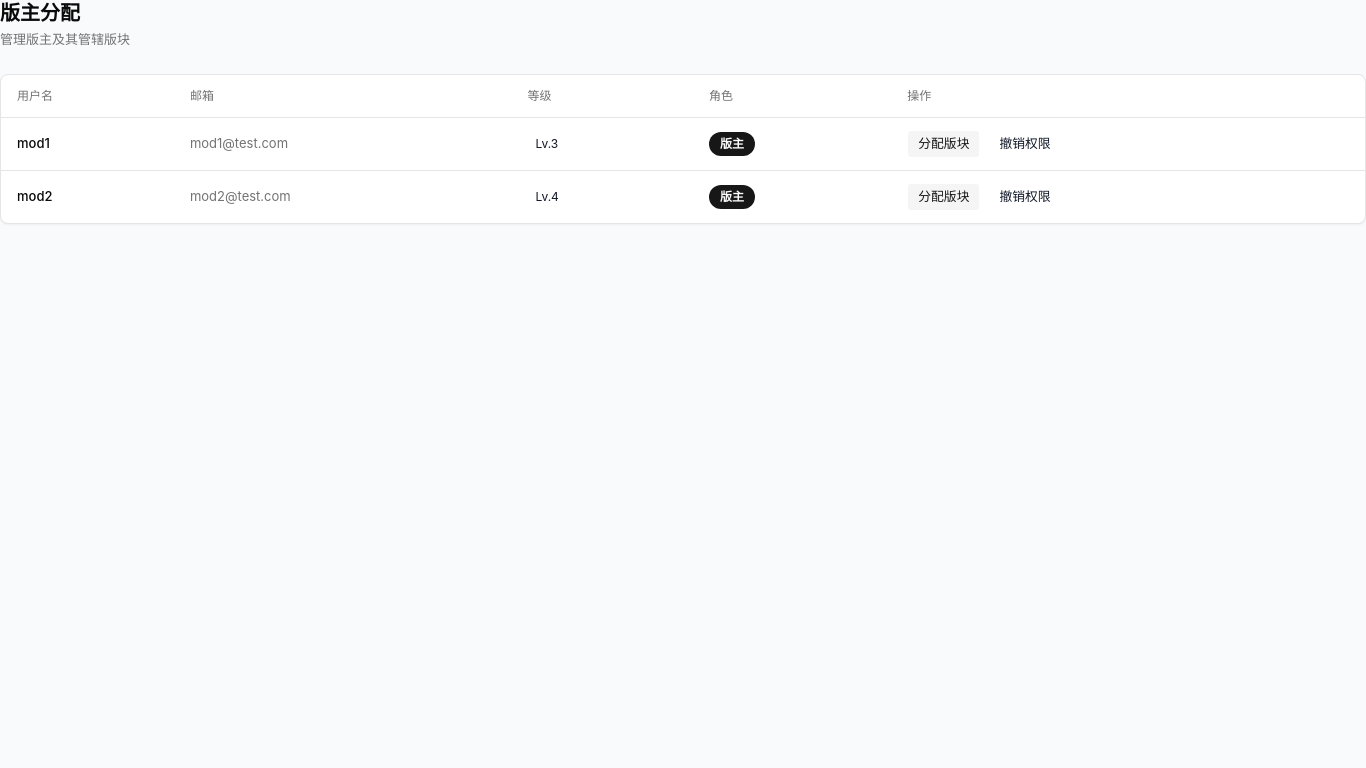
Test case: ModeratorAssignmentPage › opens assignment modal when clicking 分配版块
Check: the text "mod1" is shown, box [1,117,174,170]
Step 1. Click the button "分配版块" in the row of "mod1@test.com" → x=944, y=144, box [907,130,980,158]
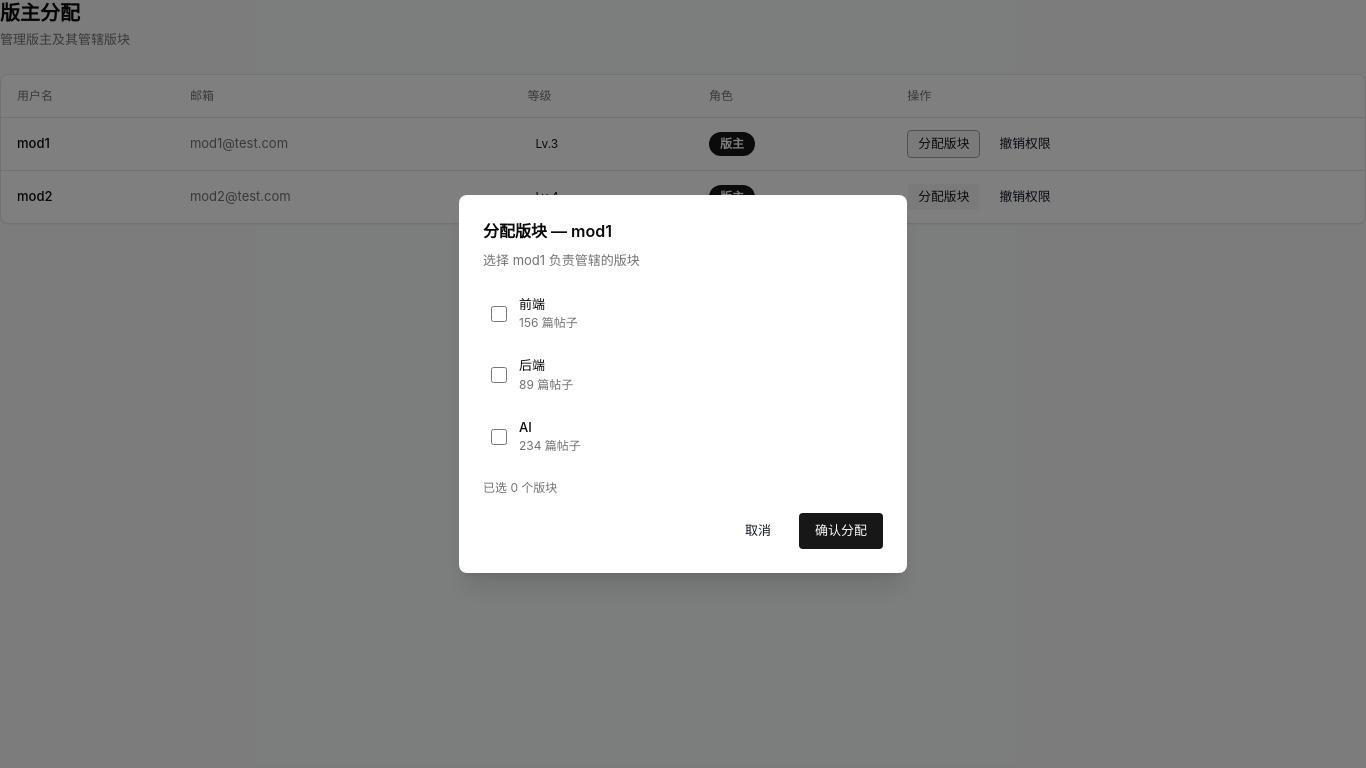
Check: the heading "分配版块 — mod1" is shown, box [483,221,612,241]
